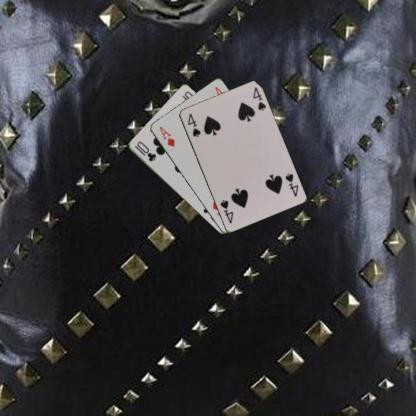10c: (132, 138, 157, 164)
4s: (282, 170, 300, 198), (185, 110, 202, 138)
Ad: (156, 124, 176, 148)
